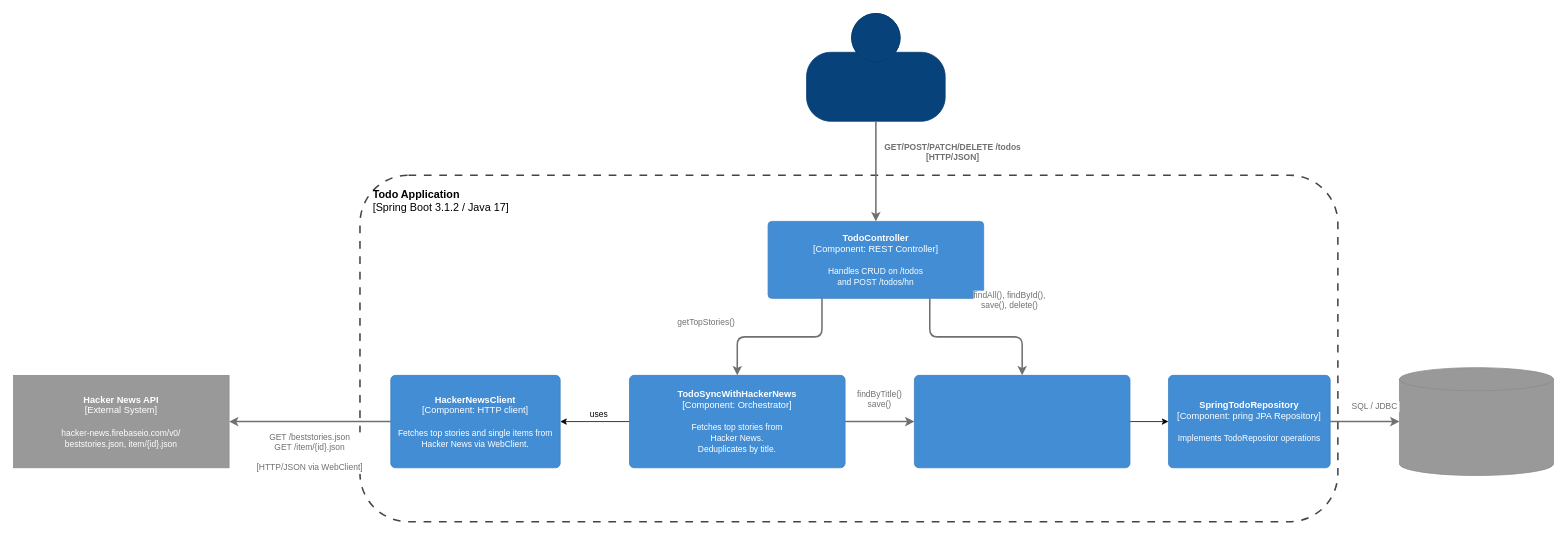
Image size: 1567x541. Some labels were removed from this diagram. The shapes that lost their labels are listed below. From the top down, each one's centre as x and y in pixels, then its label:
At [875,67]: "User [Person] Uses the Todo API via HTTP requests".
At [1022,421]: "TodoRepository [Component: Repository] CRUD + findByTitle() + getPendingTodos()".
At [1476,421]: "PostgreSQL 15 [Database] Stores todos table. Schema managed by Flyway.".
